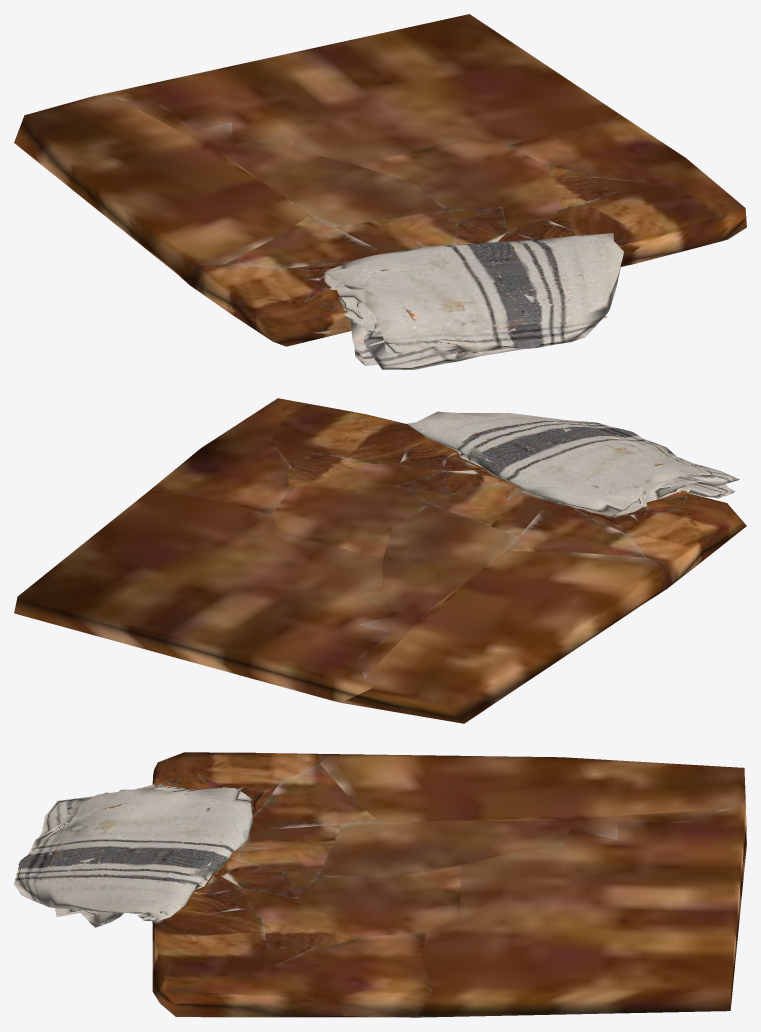
The model's file is mobile.glb.
The picture shows the model from 3 angles, top to bottom: view 1: azimuth 30°, elevation 25°; view 2: azimuth 150°, elevation 25°; view 3: azimuth 270°, elevation 25°; orthographic projection. The views are drawn at different scales.
Visible parts, largest first — view 1: d-cuttingboard; view 2: d-cuttingboard; view 3: d-cuttingboard.
Part boxes in pixels (x1,y1,x2,y2): d-cuttingboard: (14, 14, 746, 369); d-cuttingboard: (14, 398, 746, 723); d-cuttingboard: (14, 752, 746, 1017).
Size of the model in its own units: 0.5913 by 0.0383 by 0.7404.
1 material, 1 textured.
